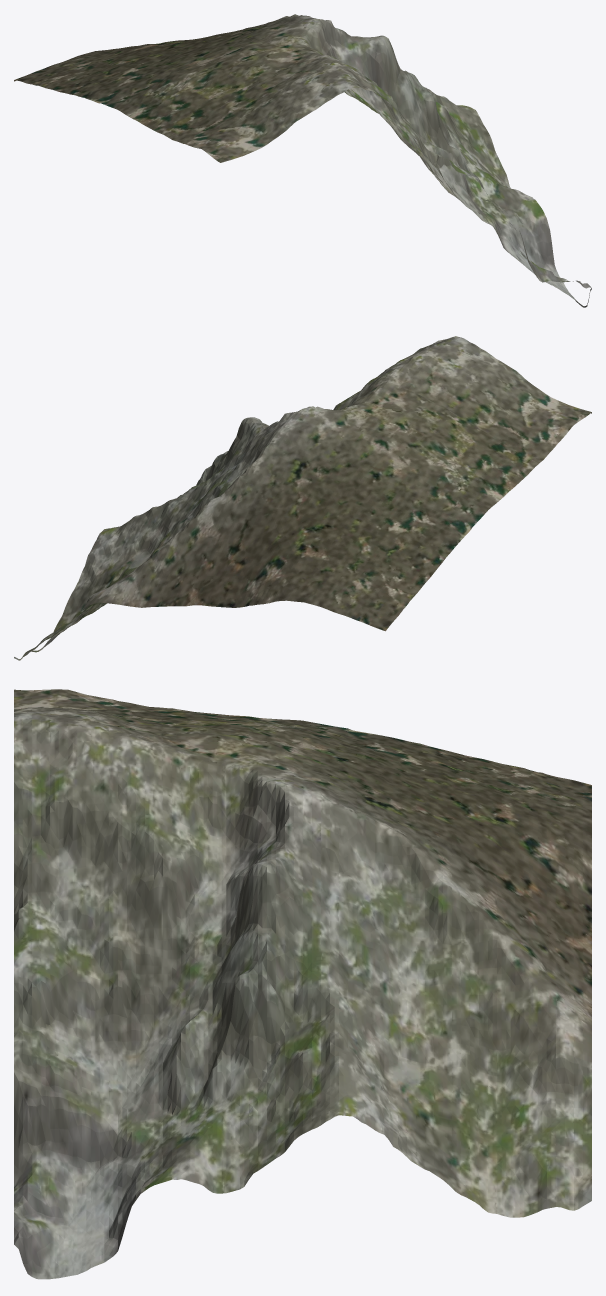
3 renders of one model, top to bottom at view 1: azimuth 30°, elevation 25°; view 2: azimuth 150°, elevation 25°; view 3: azimuth 270°, elevation 25°, orthographic. The views are drawn at different scales.
Bounding box in the file's own units: 250 × 184 × 241.
1 material, 1 textured.
